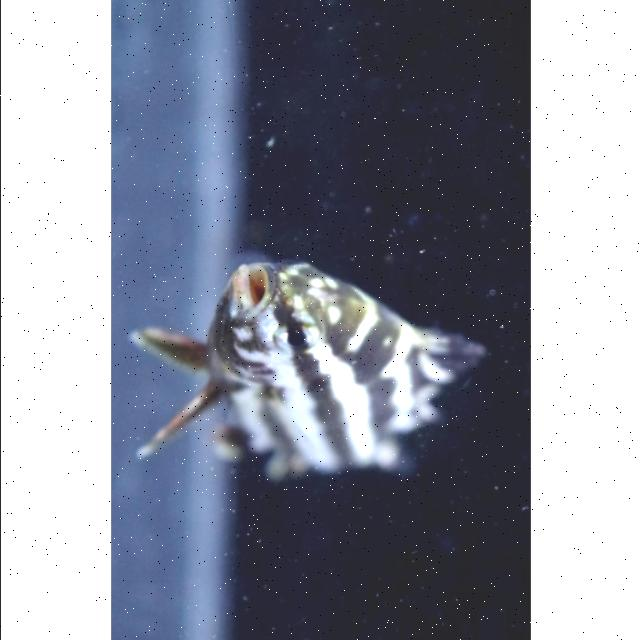Mulut: (206, 250, 286, 334)
Sirip Perut: (120, 318, 222, 466)
Sirip Punggung: (398, 304, 492, 450)
